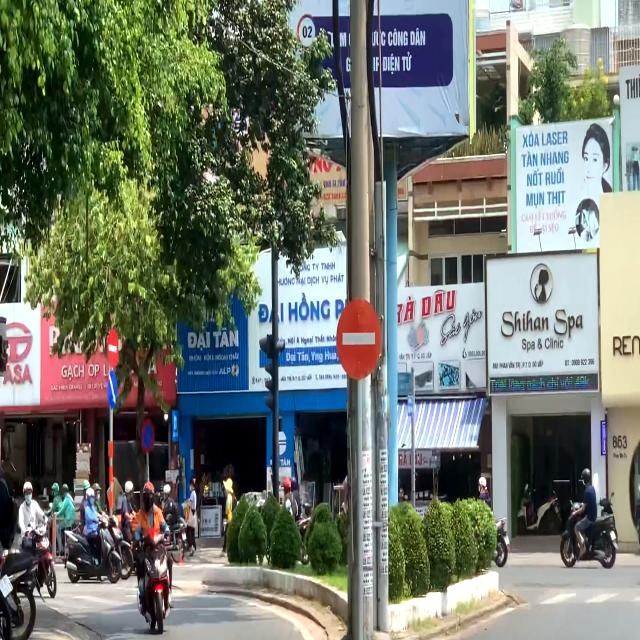Cam di nguoc chieu: (333, 294, 382, 384), (106, 328, 119, 368)
Cam do xe: (140, 416, 155, 454)
Vong chuong ngai vat sang phai: (108, 372, 118, 409)
